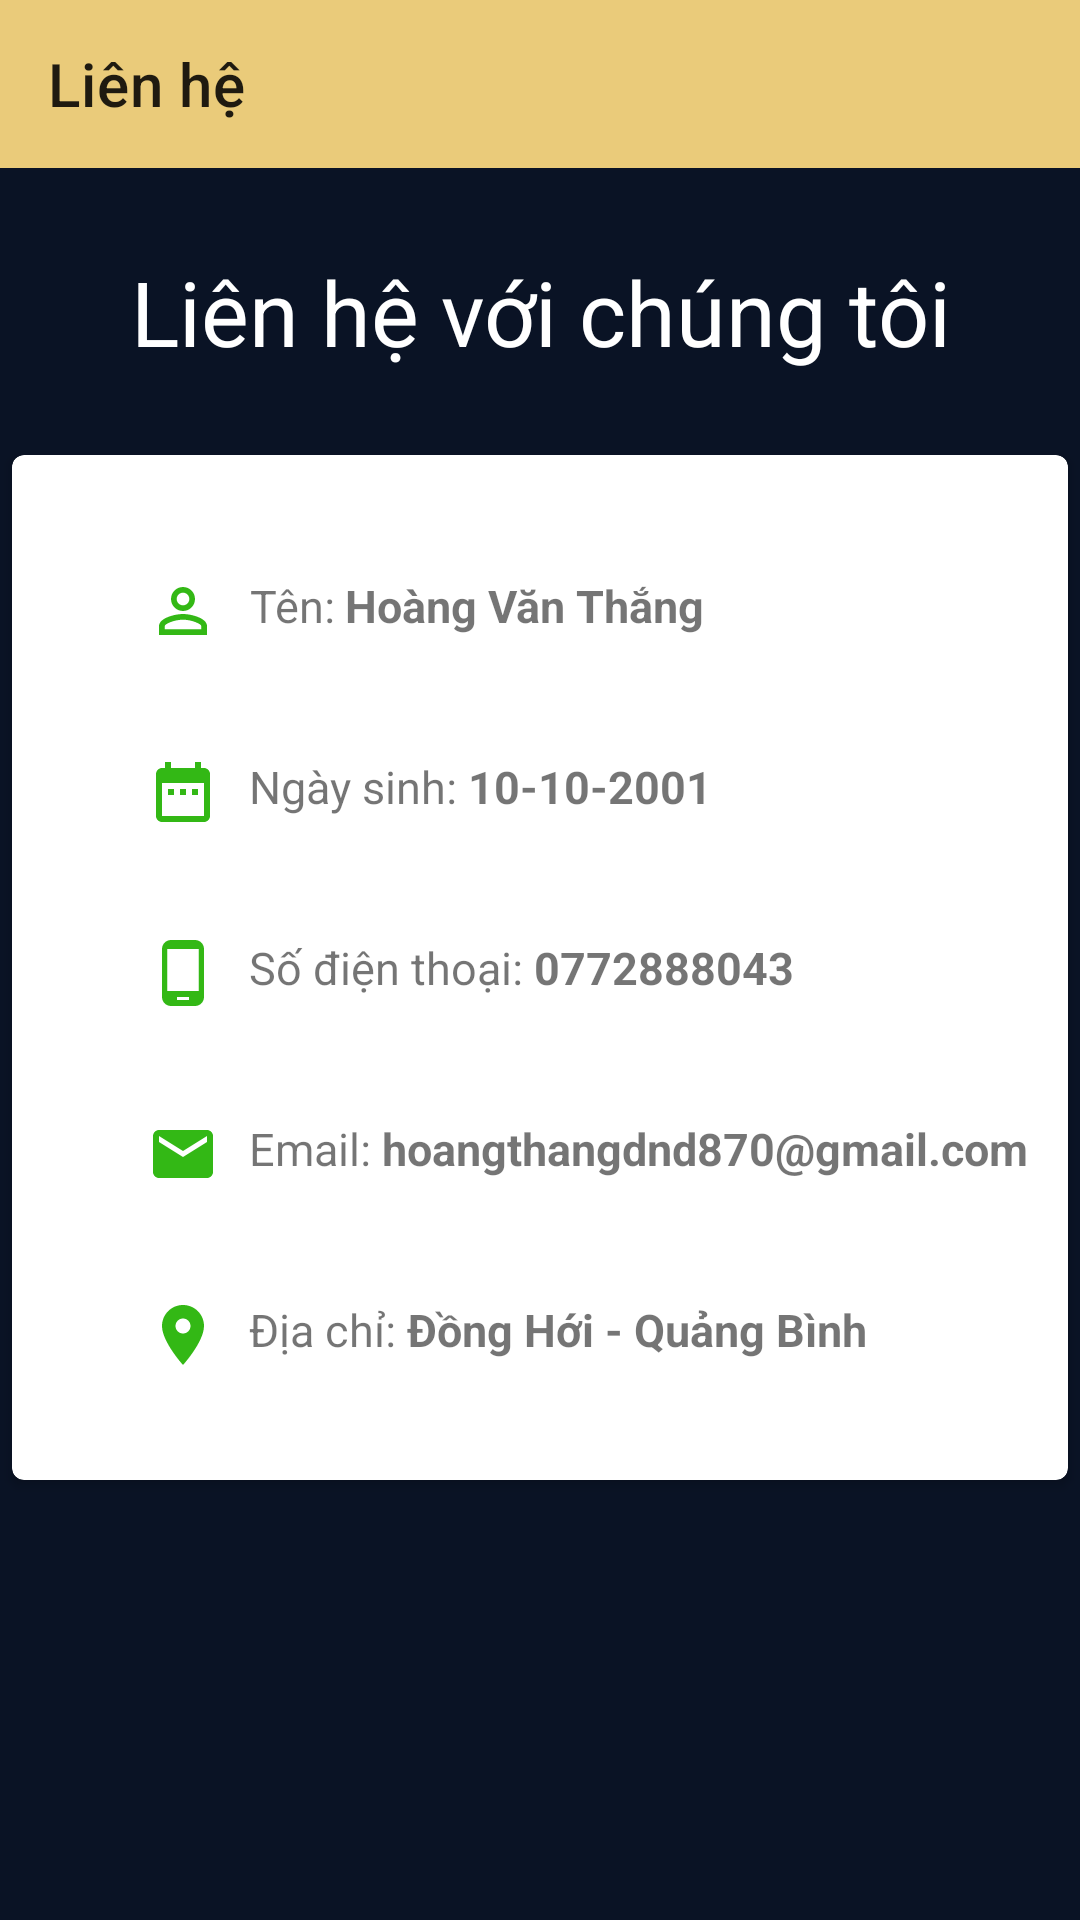

Where to tap for icons on this 1080 x 1920 app screen, as (x=x, y=y):
date range: (x=183, y=792)
location on: (x=183, y=1335)
perm identity: (x=183, y=611)
phone android: (x=183, y=973)
